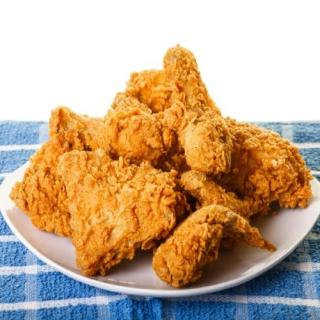fried_chicken_rice: (4, 24, 316, 289)
meat: (8, 138, 318, 290), (117, 42, 298, 160), (36, 102, 141, 166)
